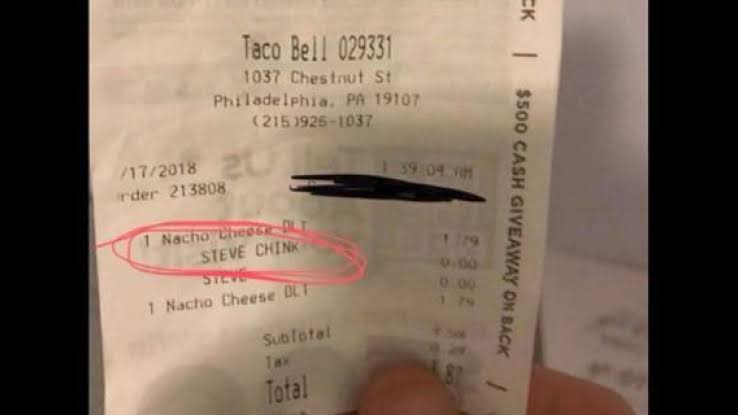Taco Bell: (236, 29, 331, 67)
